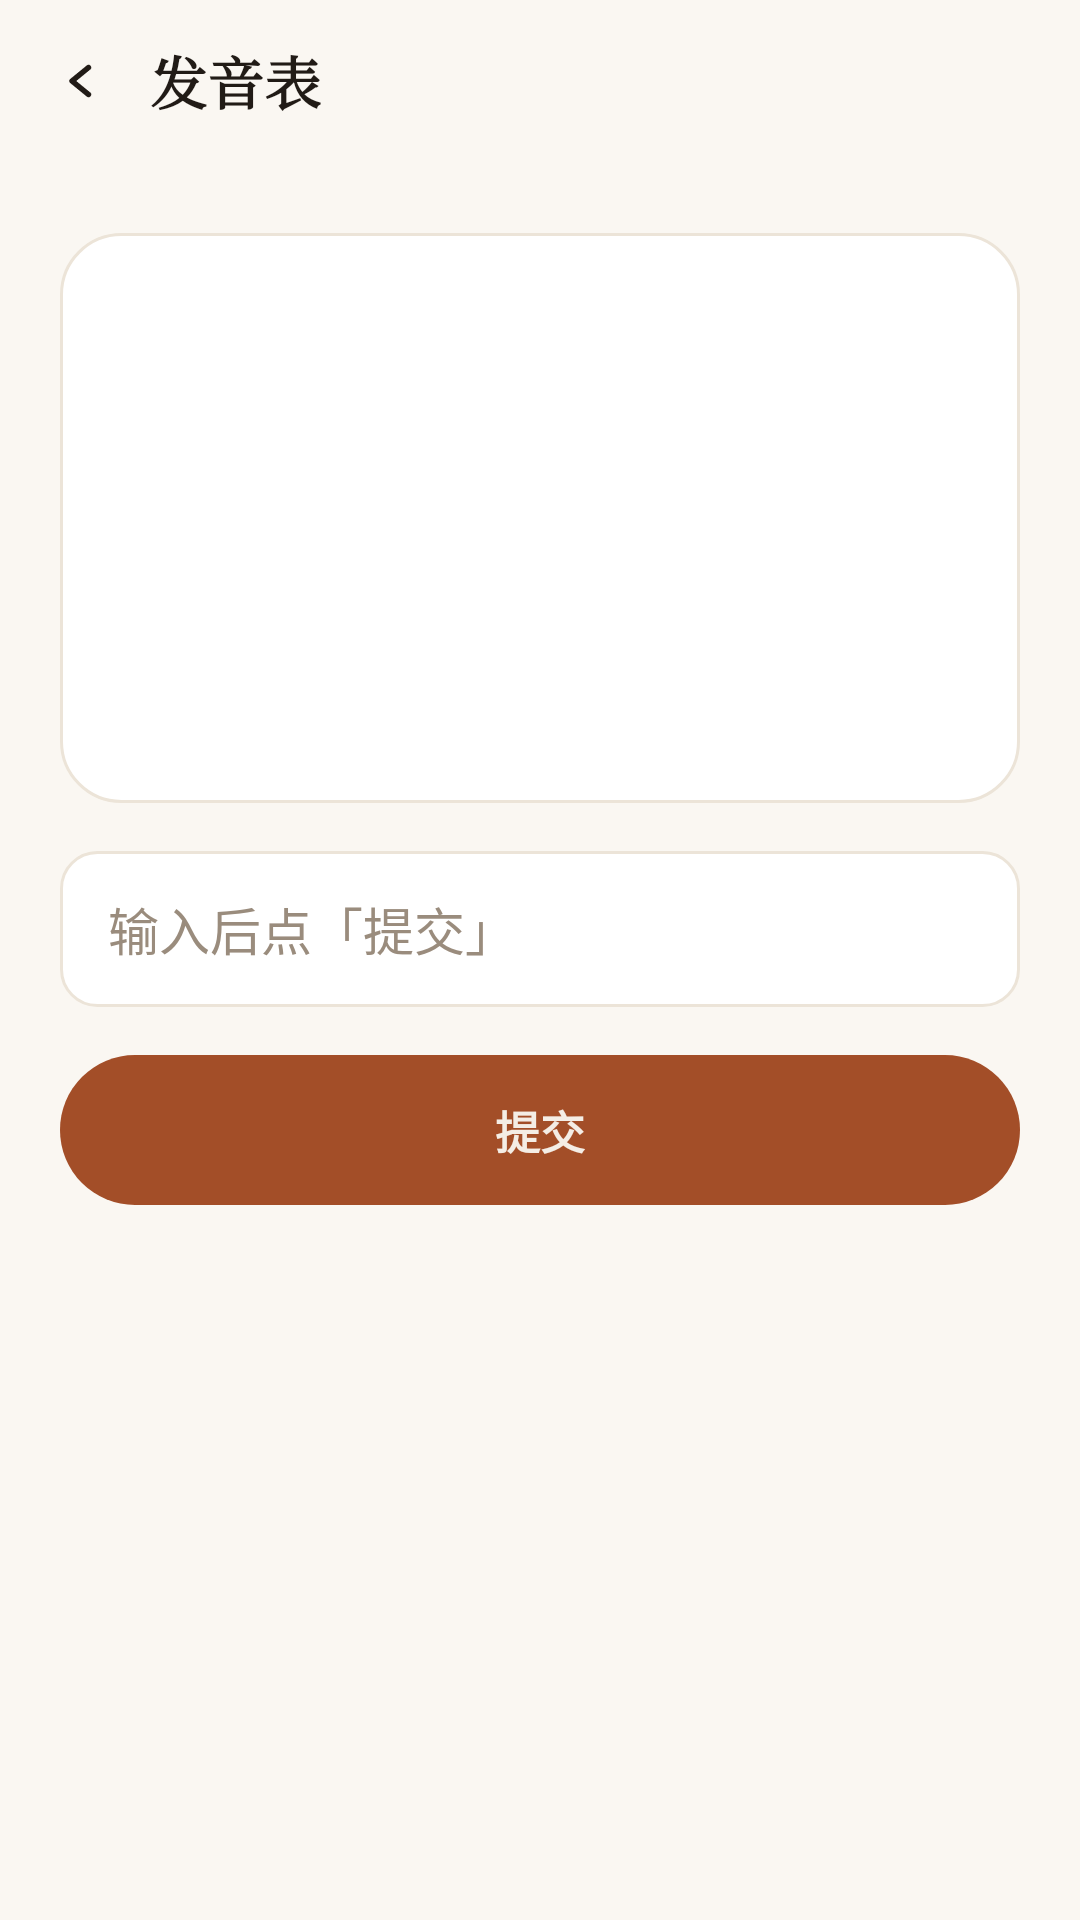

Icons on this 1080px×1920px Android screen, each with its box as (x1, y1, x2, y2):
返回: (69, 64, 92, 98)
